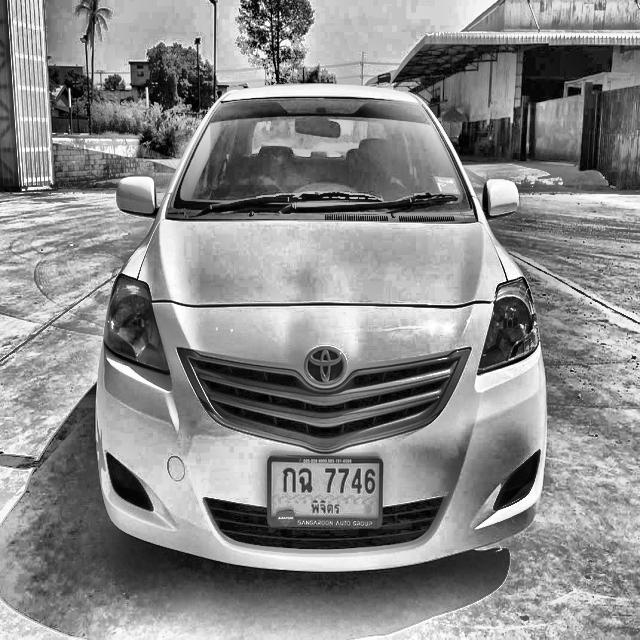license-plate: (262, 451, 390, 534)
